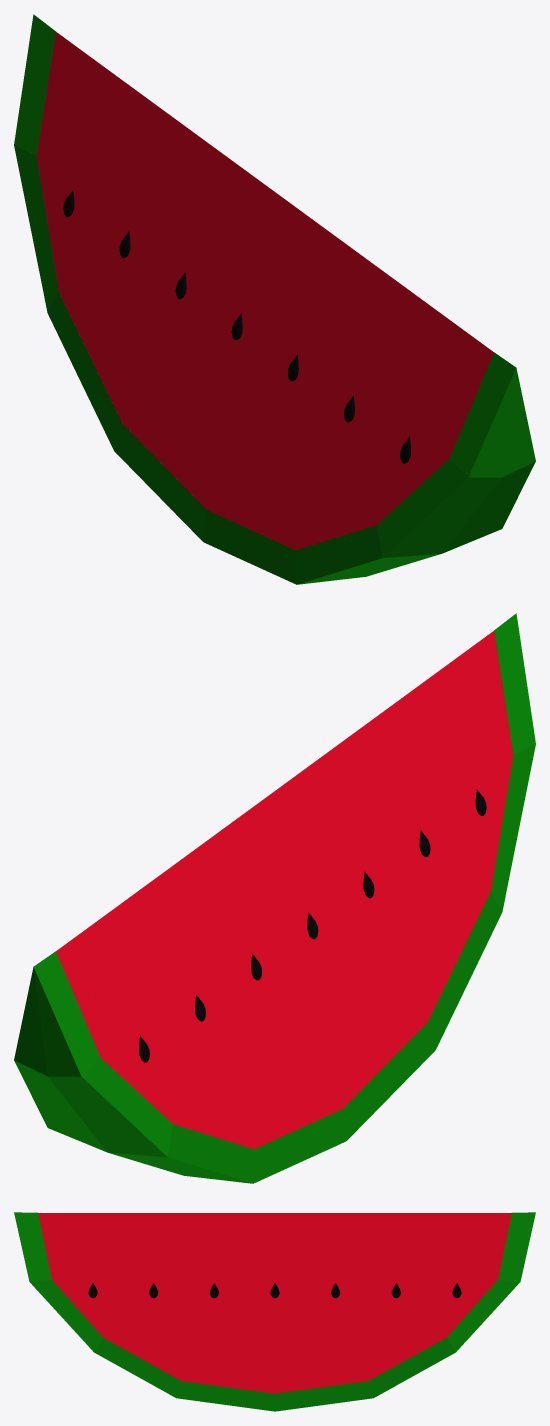
Rendered from slice-of-watermelon.glb.
The picture shows the model from 3 angles, top to bottom: view 1: azimuth 30°, elevation 25°; view 2: azimuth 150°, elevation 25°; view 3: azimuth 270°, elevation 25°; orthographic projection. The views are drawn at different scales.
Visible parts, largest first — view 1: Plane, Plane.001, Icosphere; view 2: Plane, Plane.001, Icosphere; view 3: Plane, Plane.001, Icosphere.
Boxes of the visible parts, box(x1,y1,x2,y2) form: Plane: box(36, 32, 493, 550); Plane.001: box(14, 14, 535, 584); Icosphere: box(63, 190, 410, 463); Plane: box(56, 631, 513, 1149); Plane.001: box(14, 613, 535, 1183); Icosphere: box(139, 789, 486, 1062); Plane: box(38, 1213, 511, 1393); Plane.001: box(14, 1212, 535, 1411); Icosphere: box(88, 1283, 461, 1298).
Bounding box in the file's own units: 1.76 × 4.03 × 10.29.
